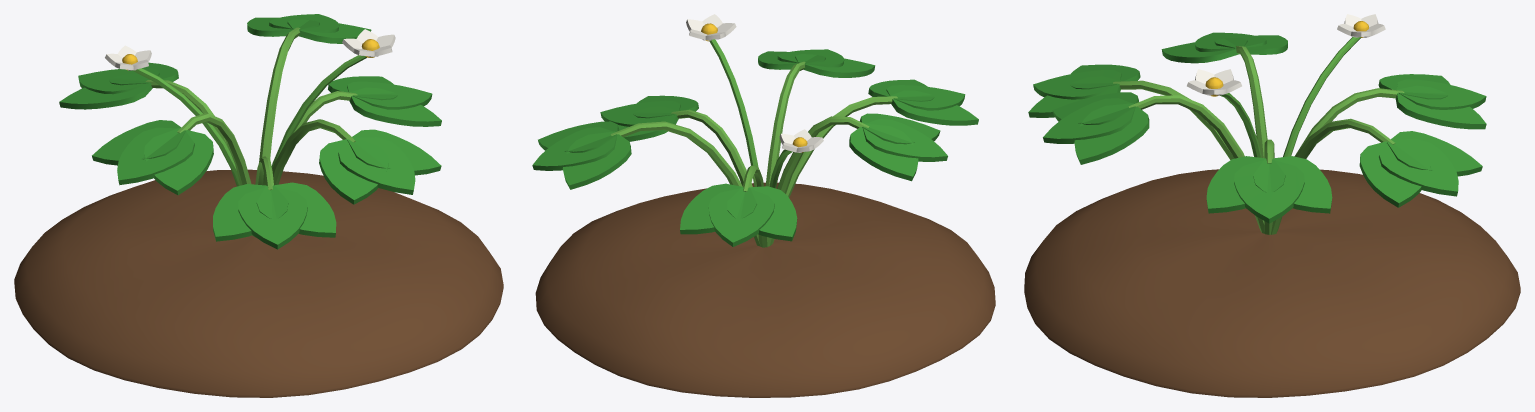
The picture shows the model from 3 angles, left to right: view 1: azimuth 30°, elevation 25°; view 2: azimuth 150°, elevation 25°; view 3: azimuth 270°, elevation 25°; orthographic projection. The views are drawn at different scales.
Parts seen in each view (by area): view 1: body; view 2: body; view 3: body.
Boxes of the visible parts, <box> form: body: <box>14,14,503,397</box>; body: <box>532,14,995,397</box>; body: <box>1024,14,1520,397</box>.
Size of the model in its own units: 0.26 by 0.1481 by 0.26.
Materials: 1 (1 with a texture image).
